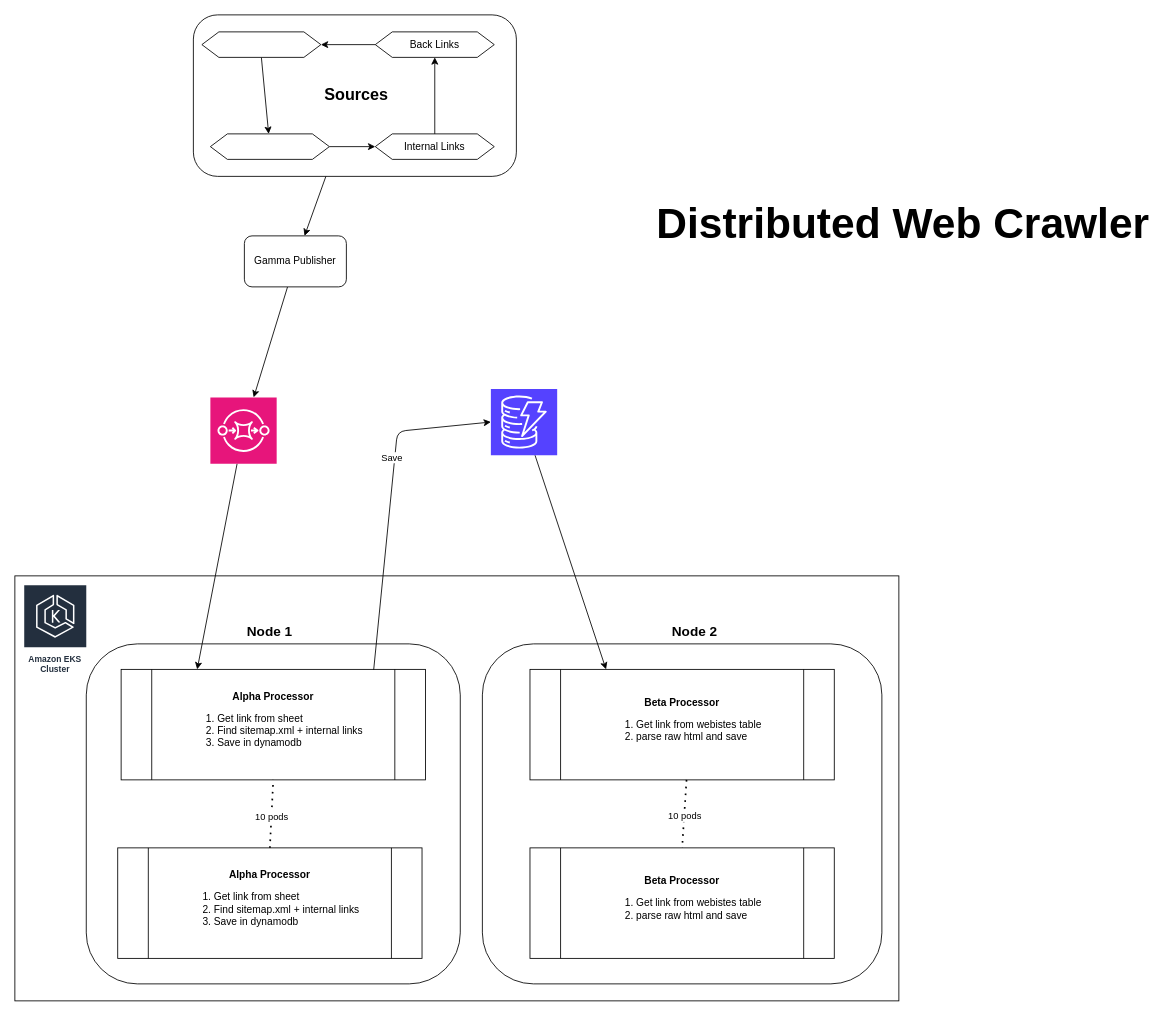
This 1169x1016 diagram has some shape labels left out. Here are the shapes that lost their labels. From the top down, the box of each, then its label:
(201, 31, 321, 57): Excel Sheets
(210, 133, 329, 159): Sitemap.xml
(210, 397, 277, 464): SQS
(490, 388, 557, 455): Dynamo DB
